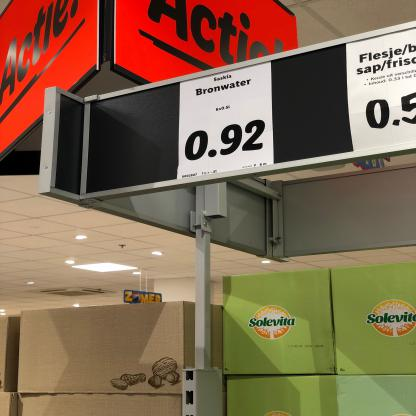prtg: (179, 62, 275, 180), (347, 28, 416, 153)
